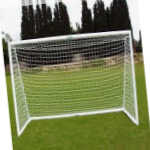goals: (7, 30, 141, 139)
